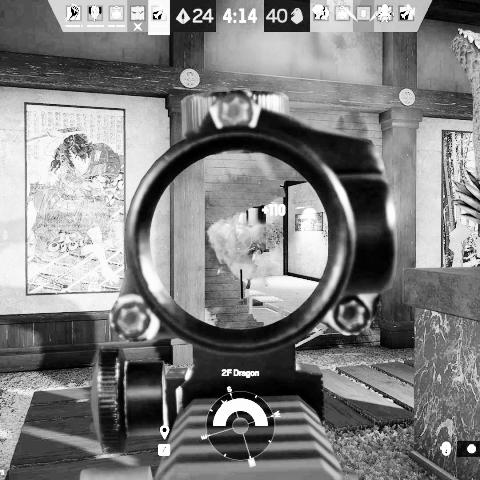Character: (234, 223, 264, 290)
Head: (246, 224, 254, 232)
